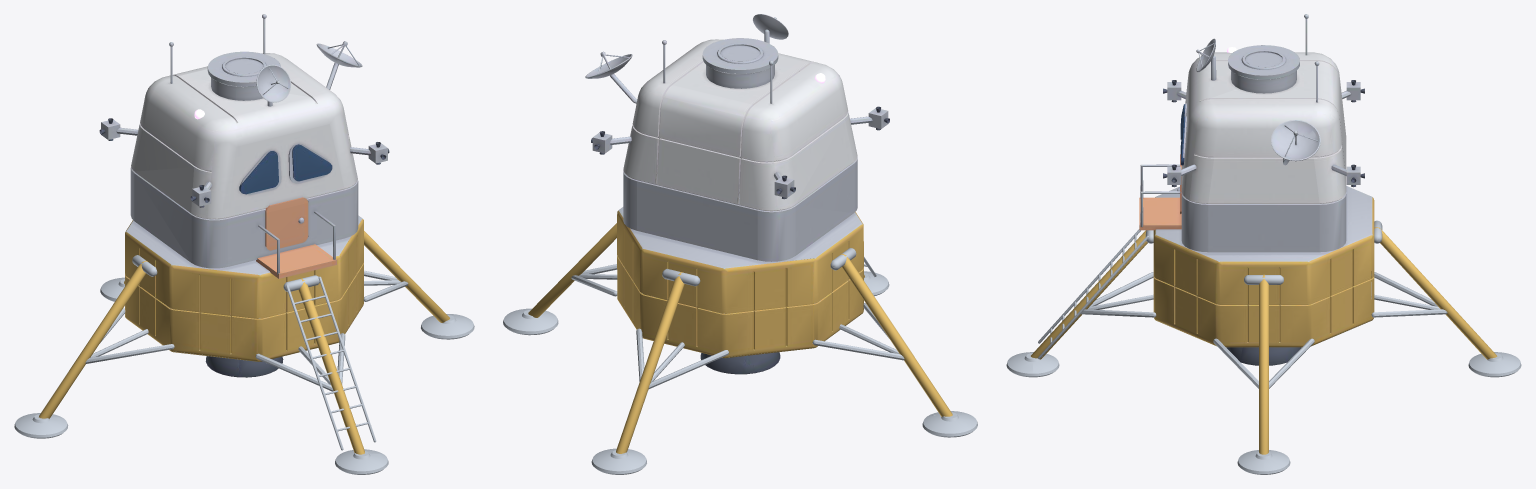
Rendered from modulo_lunar.glb.
The picture shows the model from 3 angles, left to right: view 1: azimuth 30°, elevation 25°; view 2: azimuth 150°, elevation 25°; view 3: azimuth 270°, elevation 25°; orthographic projection. The views are drawn at different scales.
Parts seen in each view (by area): view 1: lunar-lander_beacon_glow; view 2: lunar-lander_beacon_glow; view 3: lunar-lander_beacon_glow.
Part boxes in pixels (x1,y1,x2,y2): lunar-lander_beacon_glow: (14,14,474,474); lunar-lander_beacon_glow: (503,14,977,474); lunar-lander_beacon_glow: (1006,14,1521,474).
Bounding box in the file's own units: 9.7 × 6.82 × 9.7.
11 materials, 1 textured.
